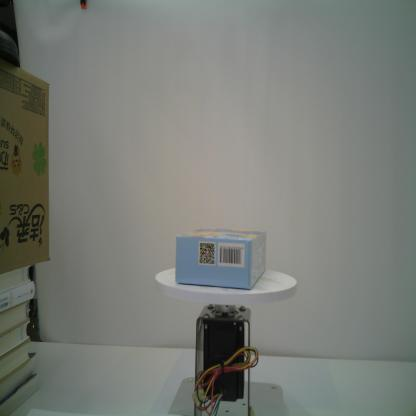Dessert: (175, 228, 267, 290)
